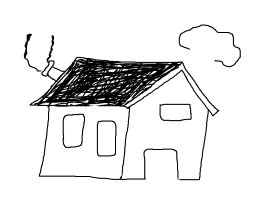clouds: (174, 16, 250, 73)
door: (134, 140, 186, 186)
open_window: (58, 109, 90, 152), (148, 100, 199, 126), (93, 115, 121, 161)
shaded_roof: (34, 54, 228, 117)
smoking_chimney: (14, 29, 70, 85)
wall: (35, 101, 136, 185)
